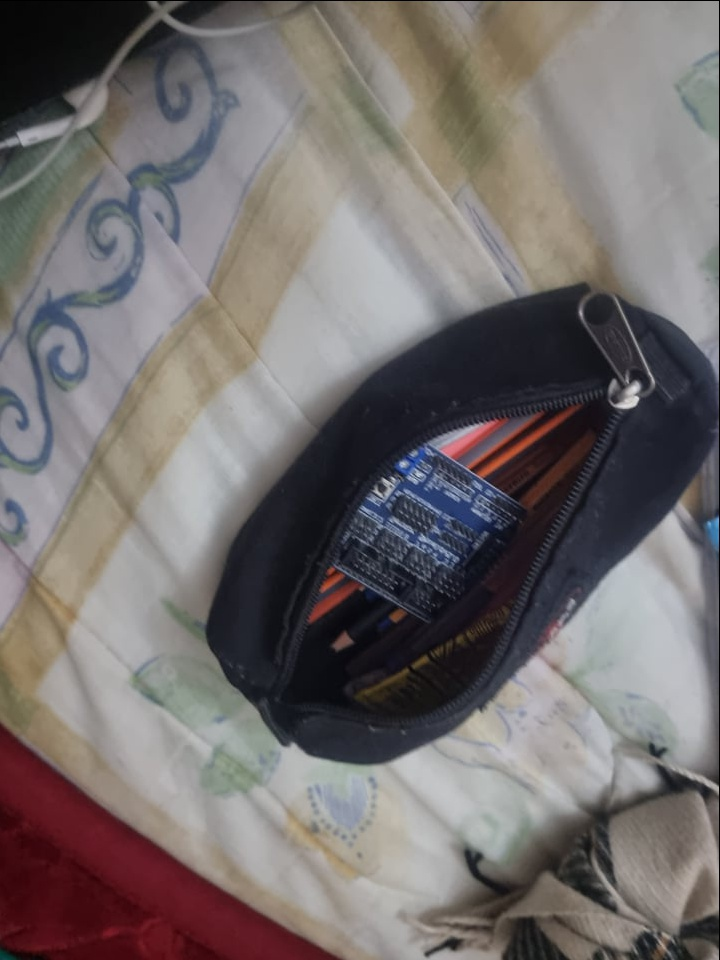5V EXPANSION: (330, 444, 528, 622)
